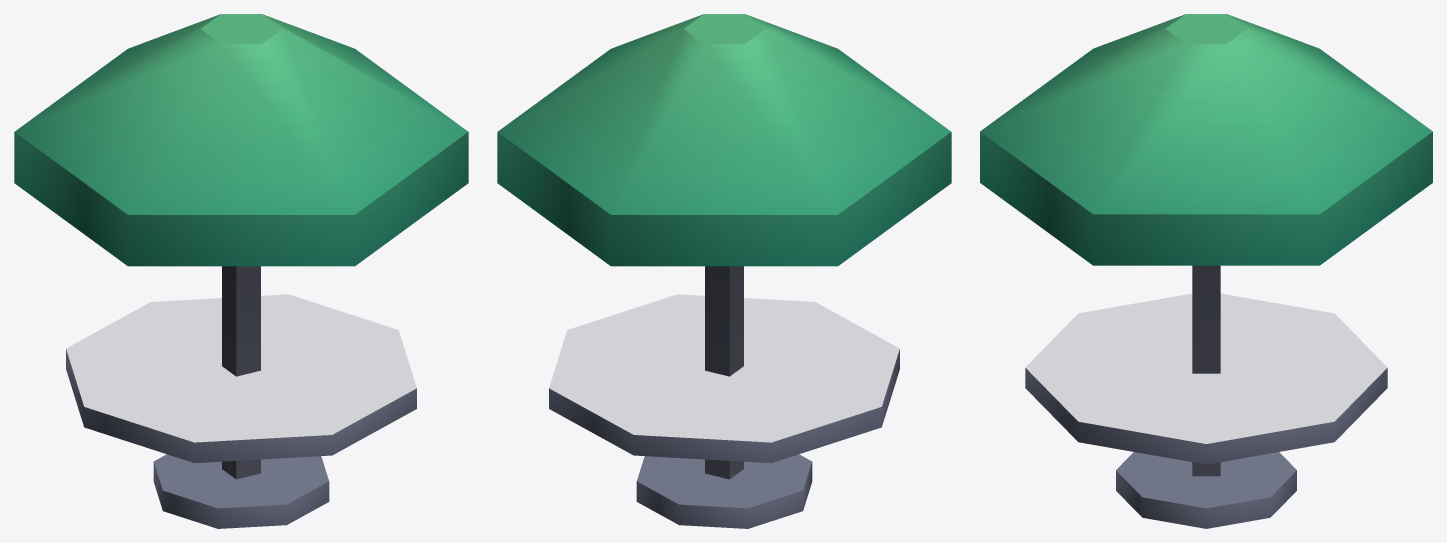
Rendered from detail-parasol-a.glb.
3 views of the same model, side by side, from view 1: azimuth 30°, elevation 25°; view 2: azimuth 150°, elevation 25°; view 3: azimuth 270°, elevation 25° (orthographic).
Parts seen in each view (by area): view 1: detail-parasol-a; view 2: detail-parasol-a; view 3: detail-parasol-a.
Boxes of the visible parts, x1=… form: detail-parasol-a: x1=14, y1=14, x2=468, y2=528; detail-parasol-a: x1=497, y1=14, x2=951, y2=528; detail-parasol-a: x1=980, y1=14, x2=1432, y2=528.
Size of the model in its own units: 0.3464 by 0.45 by 0.4.
Materials: 1 (1 with a texture image).
